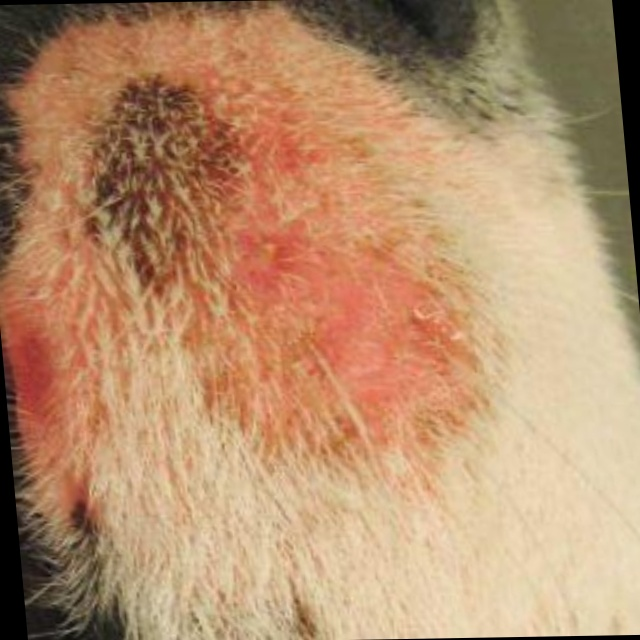ringworm: (215, 111, 425, 422)
